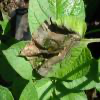Tomato leaf late blight: (17, 12, 94, 82)
